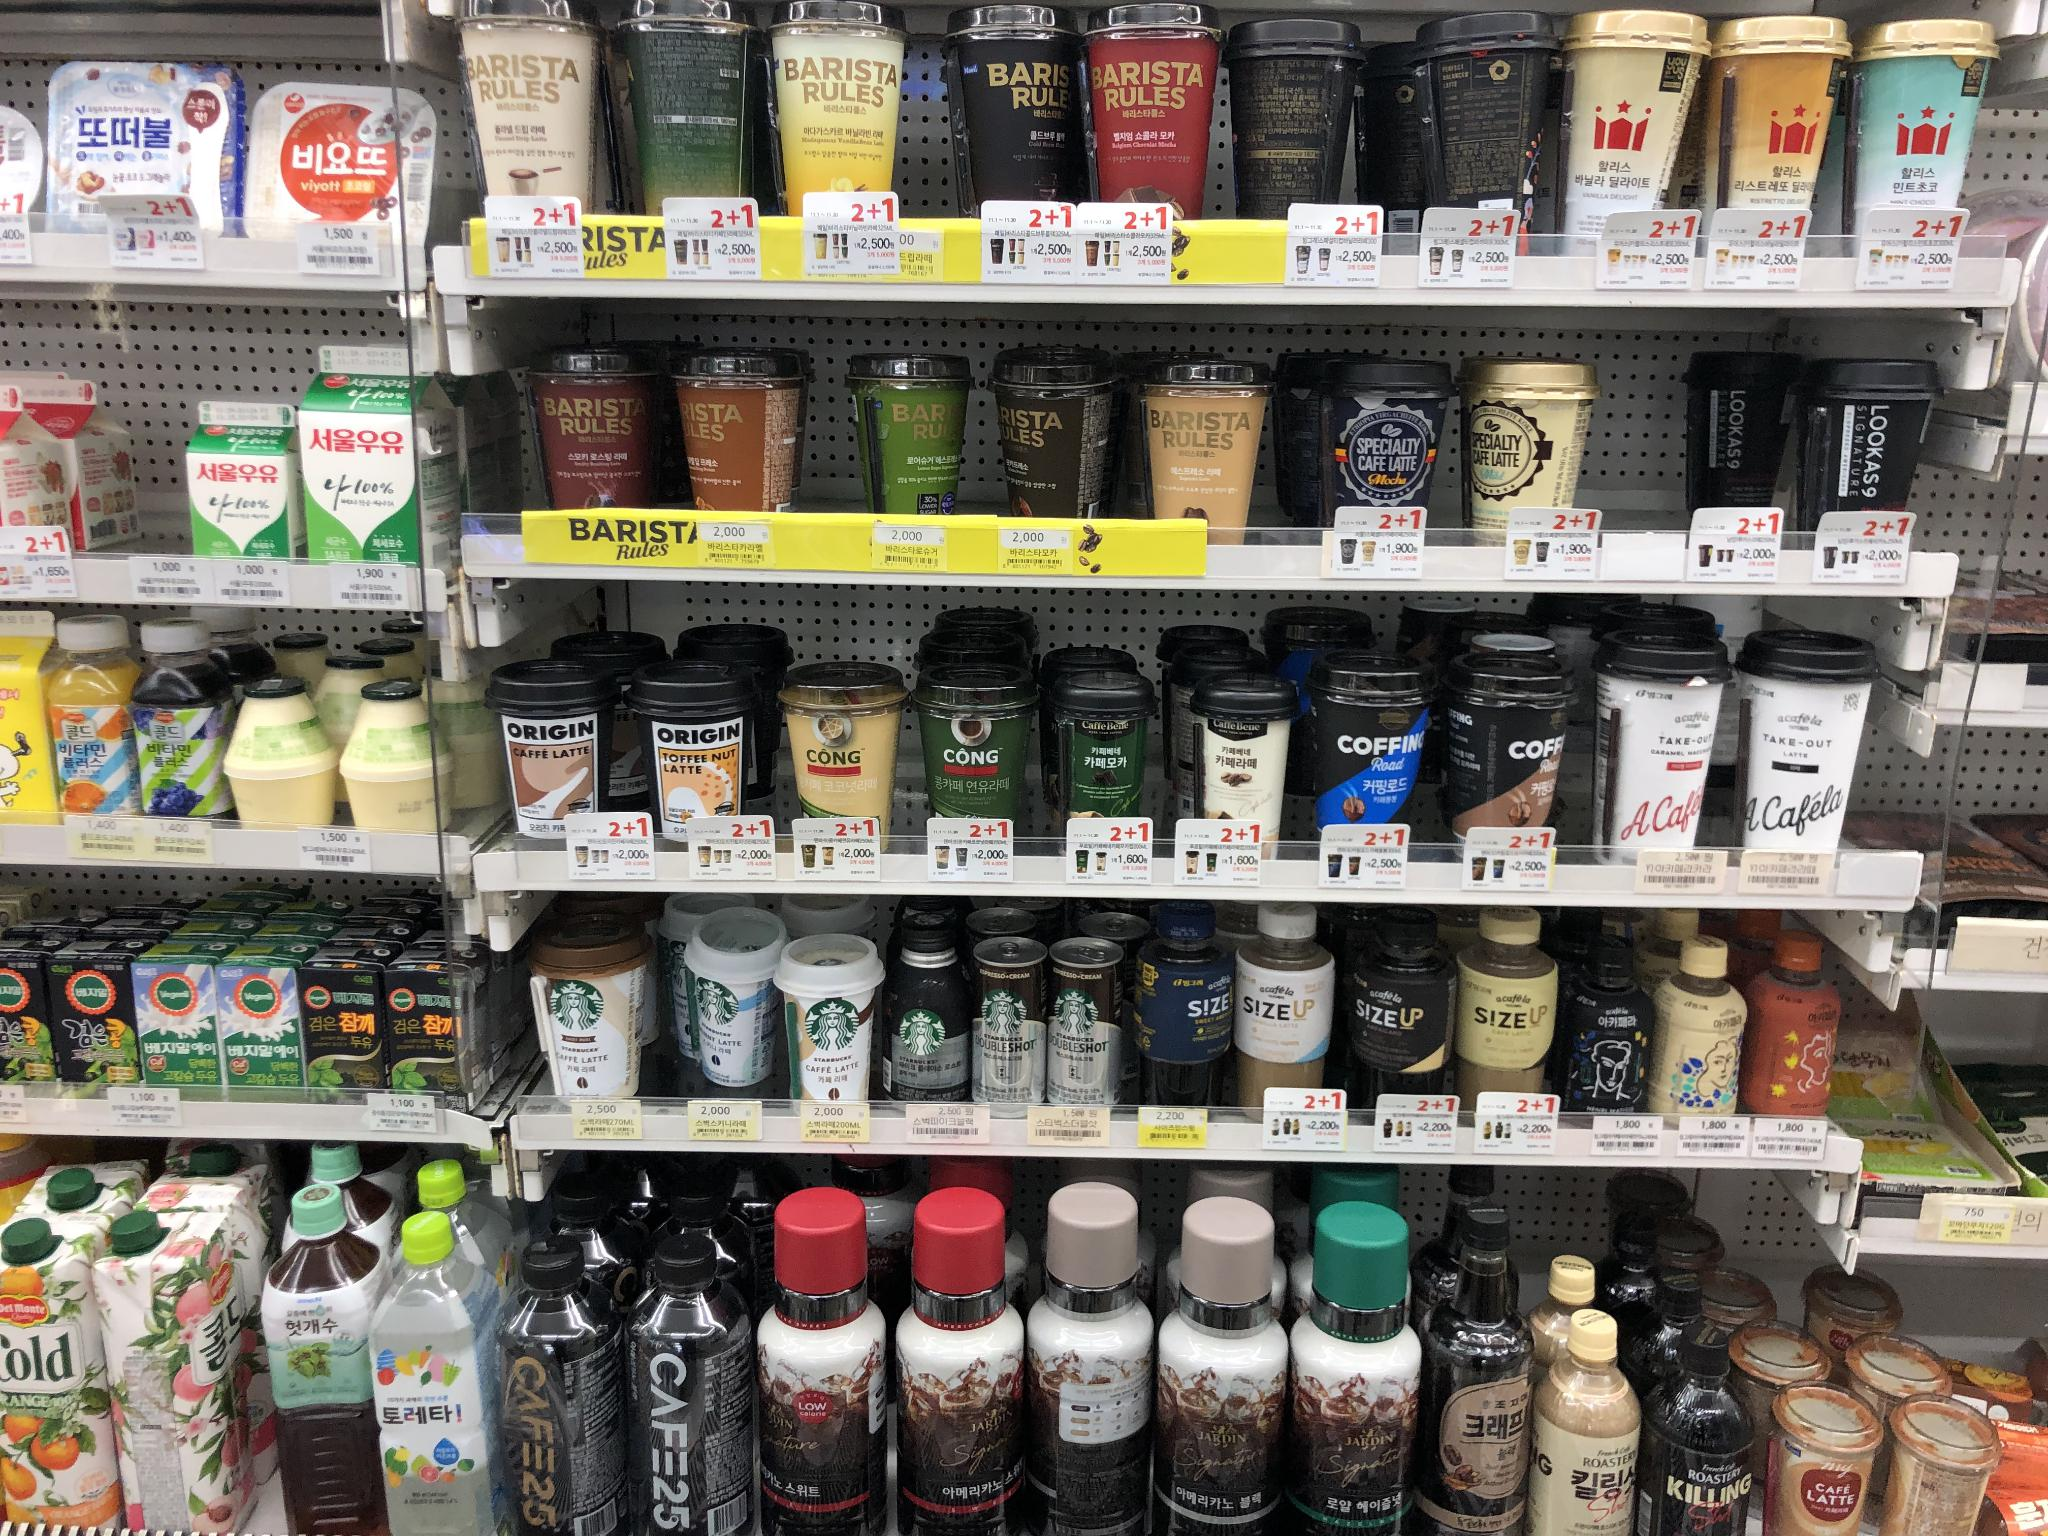baristarules_espressolatte: (1134, 358, 1271, 553)
starbucks_cafelatte: (524, 912, 664, 1108)
